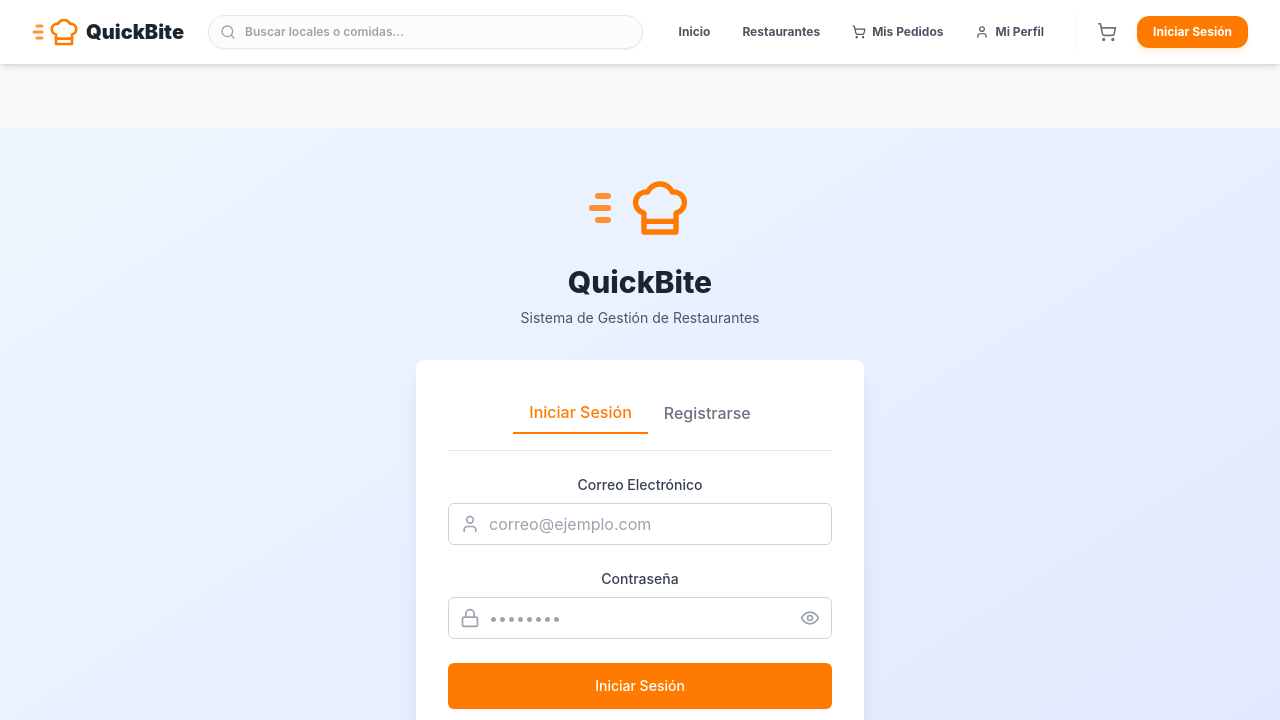
Test: Login E2E Tests › should switch to registration form
Click the button "Registrarse" at [708, 413], box [648,392,767,434]
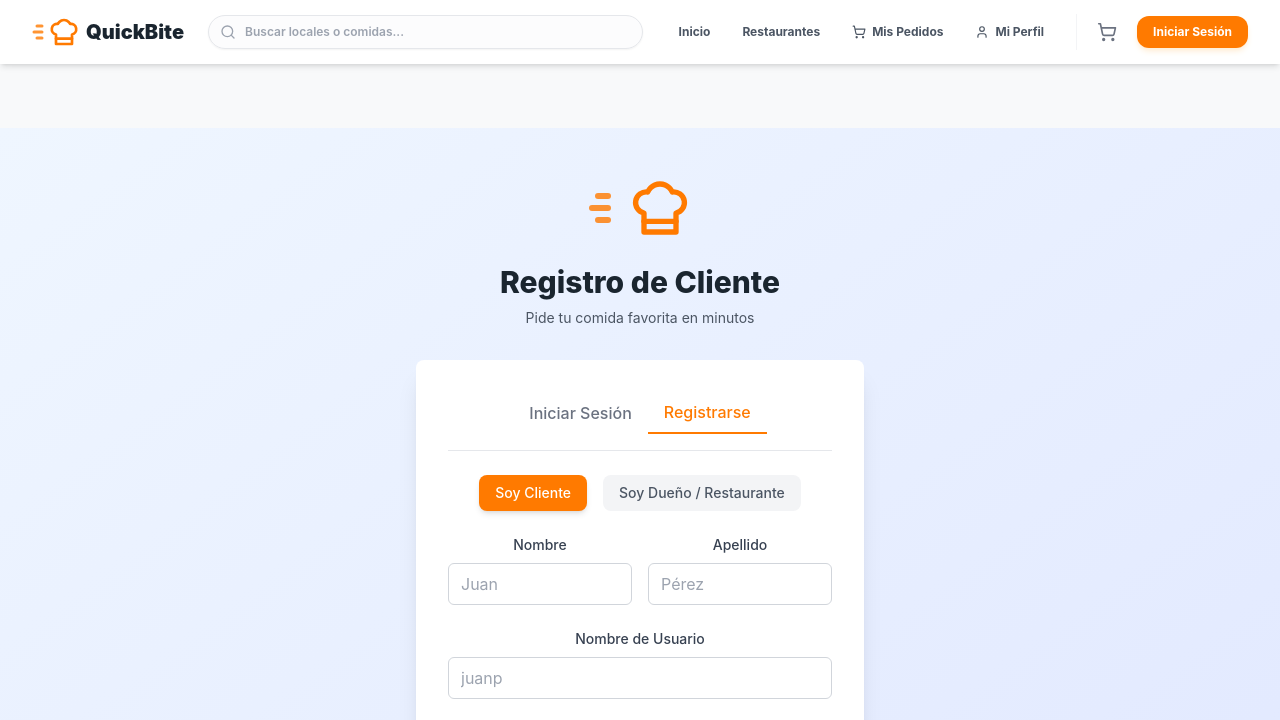
Check: the text "Nombre de Usuario" is shown, box [575,630,705,647]
Check: the text "Nombre" is shown, box [513,536,567,553]
Check: the text "Apellido" is shown, box [713,536,767,553]
